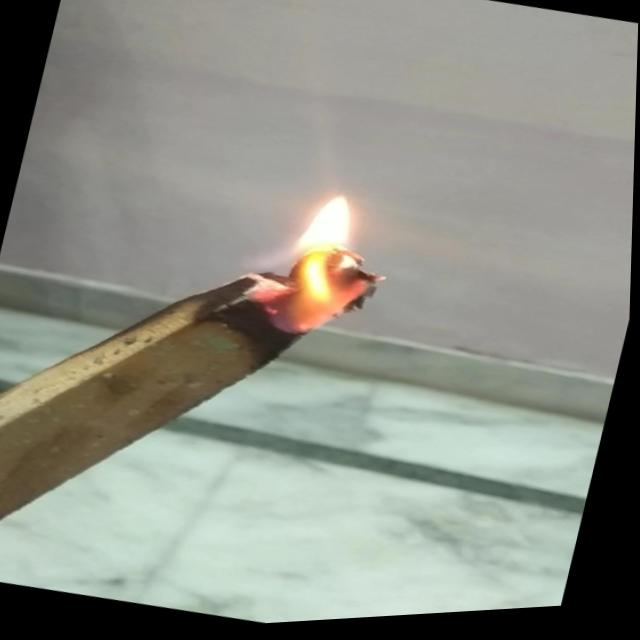fire: (226, 168, 408, 366)
